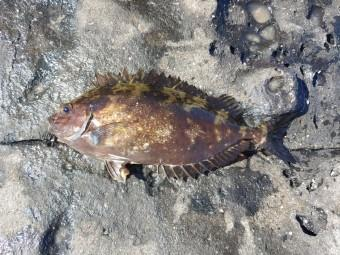fish: (49, 71, 295, 179)
